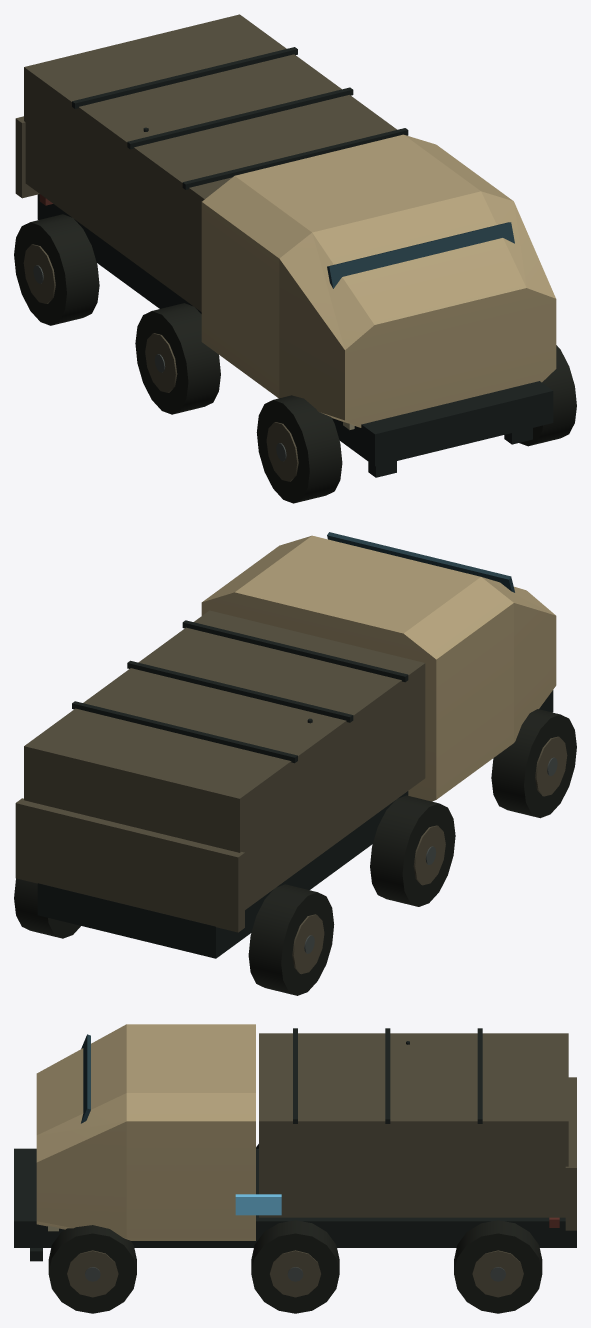
Rendered from logiTruck.glb.
3 renders of one model, top to bottom at view 1: azimuth 30°, elevation 25°; view 2: azimuth 150°, elevation 25°; view 3: azimuth 270°, elevation 25°, orthographic. The views are drawn at different scales.
Visible parts, largest first — view 1: equipment, armor, glass; view 2: equipment, armor, glass; view 3: equipment, armor, marking, glass.
Boxes of the visible parts, <box> form: equipment: <box>14,14,576,503</box>; armor: <box>201,134,556,427</box>; glass: <box>327,222,514,288</box>; equipment: <box>14,610,576,995</box>; armor: <box>201,535,556,801</box>; glass: <box>327,532,514,592</box>; equipment: <box>14,1028,576,1313</box>; armor: <box>36,1024,255,1240</box>; marking: <box>235,1194,281,1215</box>; glass: <box>81,1034,90,1123</box>.
Bounding box in the file's own units: 2.84 × 2.4 × 6.1.
